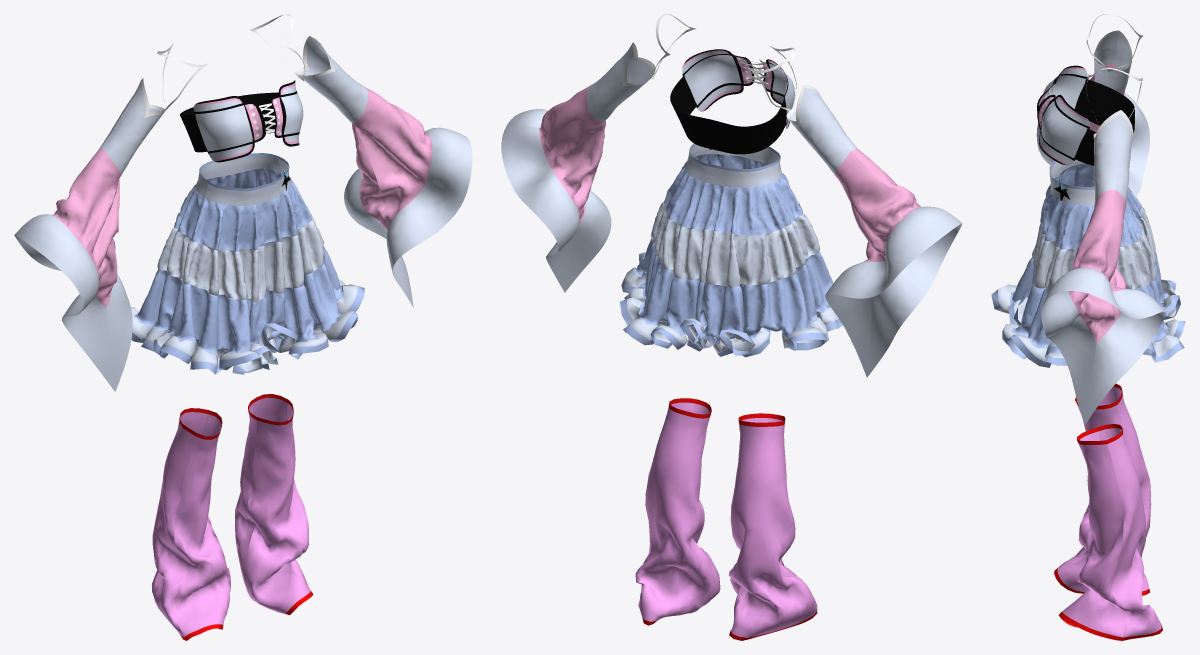
Rendered from Domi.glb.
3 views of the same model, side by side, from view 1: azimuth 30°, elevation 25°; view 2: azimuth 150°, elevation 25°; view 3: azimuth 270°, elevation 25° (orthographic). The views are drawn at different scales.
Visible parts, largest first — view 1: Cloth, Cloth.001, Domi_Legs, Cloth.002; view 2: Cloth, Cloth.001, Domi_Legs, Cloth.002; view 3: Cloth, Domi_Legs, Cloth.001, Cloth.002.
Part boxes in pixels (x1=…): Cloth: x1=14, y1=14, x2=472, y2=391; Cloth.001: x1=131, y1=153, x2=364, y2=374; Domi_Legs: x1=152, y1=394, x2=312, y2=640; Cloth.002: x1=180, y1=80, x2=303, y2=162; Cloth: x1=501, y1=14, x2=962, y2=377; Cloth.001: x1=620, y1=143, x2=842, y2=357; Domi_Legs: x1=635, y1=398, x2=817, y2=640; Cloth.002: x1=670, y1=49, x2=794, y2=154; Cloth: x1=1036, y1=14, x2=1165, y2=424; Domi_Legs: x1=1054, y1=383, x2=1162, y2=640; Cloth.001: x1=991, y1=159, x2=1185, y2=367; Cloth.002: x1=1037, y1=65, x2=1134, y2=165.
Size of the model in its own units: 1.11 by 1.42 by 0.4398.
Materials: 12 (12 with a texture image).
